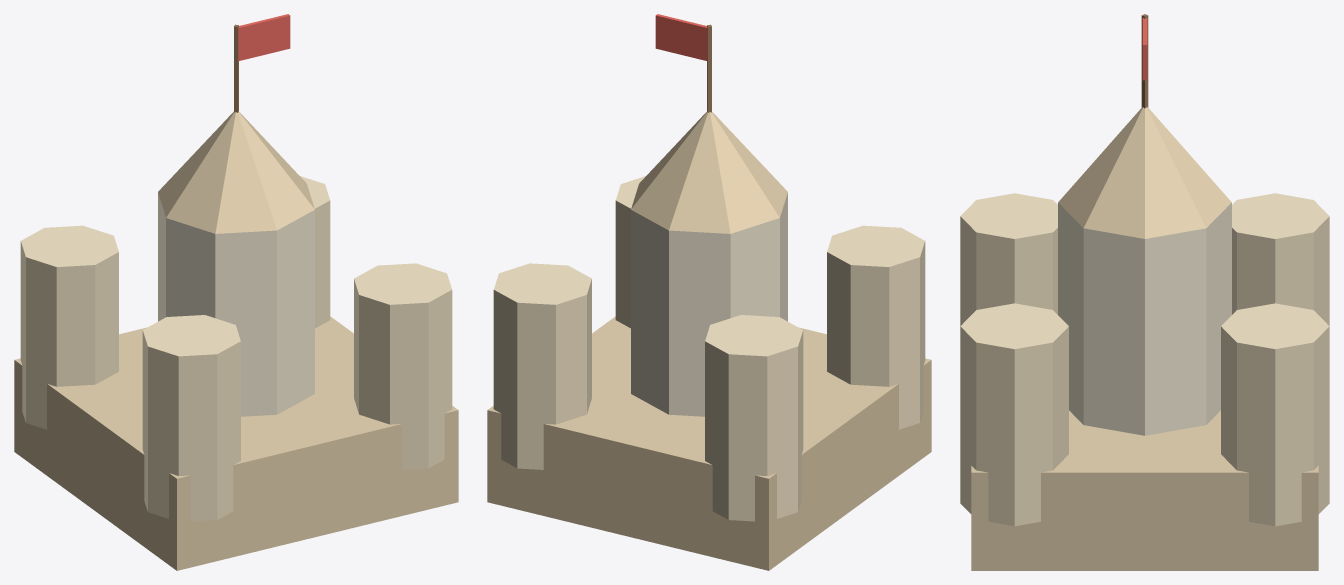
Rendered from Sandcastle.fbx.
The picture shows the model from 3 angles, left to right: view 1: azimuth 30°, elevation 25°; view 2: azimuth 150°, elevation 25°; view 3: azimuth 270°, elevation 25°; orthographic projection. The views are drawn at different scales.
Parts seen in each view (by area): view 1: Body; view 2: Body; view 3: Body.
Part boxes in pixels (box(x1,y1,x2,y2)): Body: box(14, 14, 458, 570); Body: box(487, 14, 931, 570); Body: box(960, 14, 1329, 570).
Bounding box in the file's own units: 1.7 × 2.45 × 1.7.
